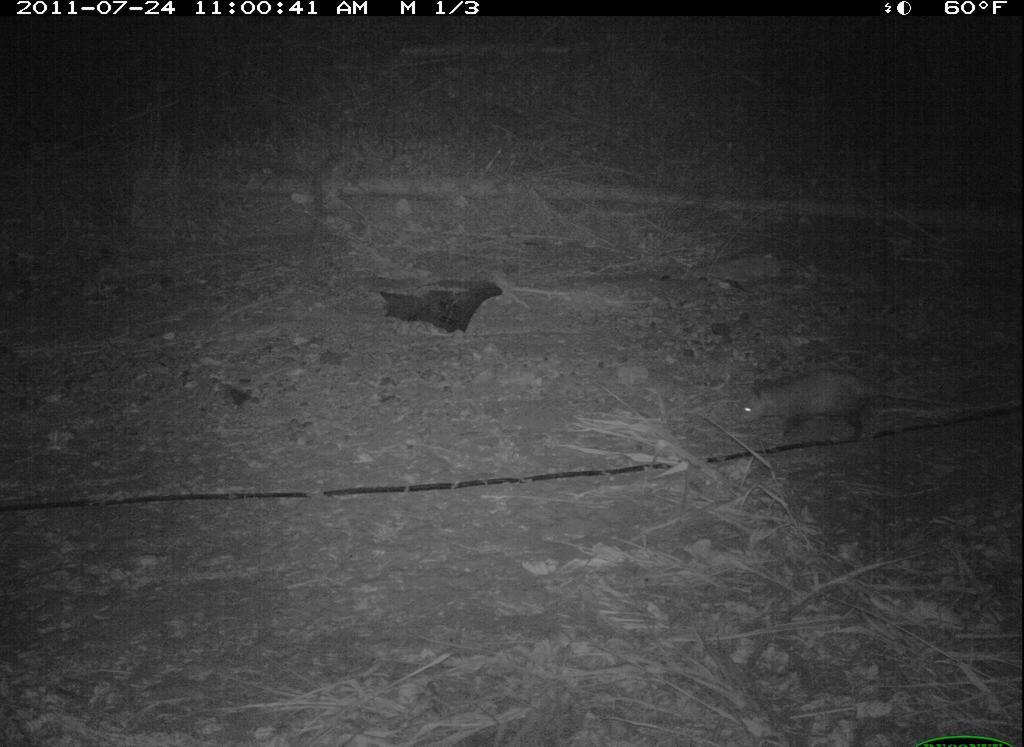opossum: (720, 368, 941, 449)
